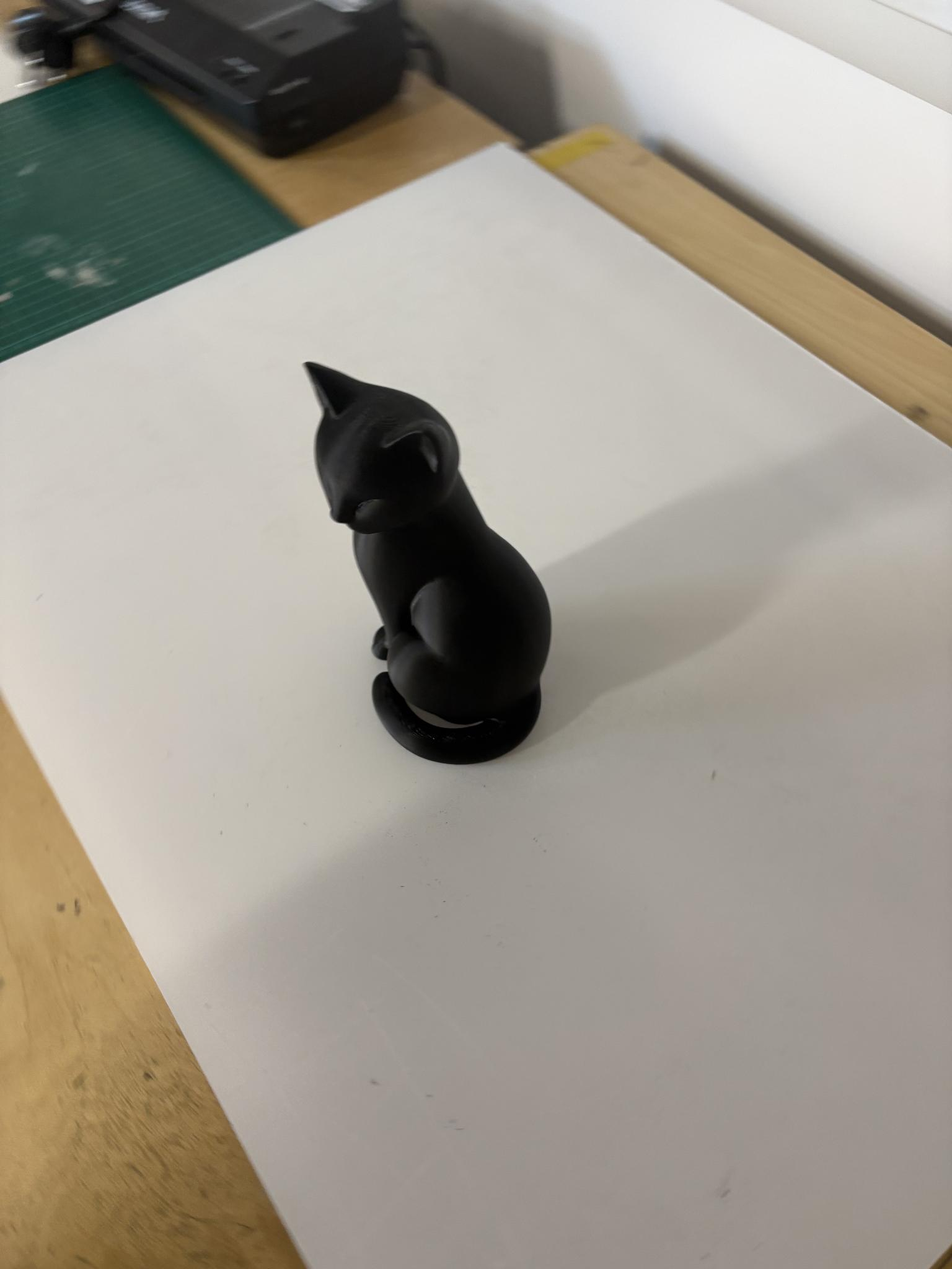cat: (307, 364, 550, 763)
